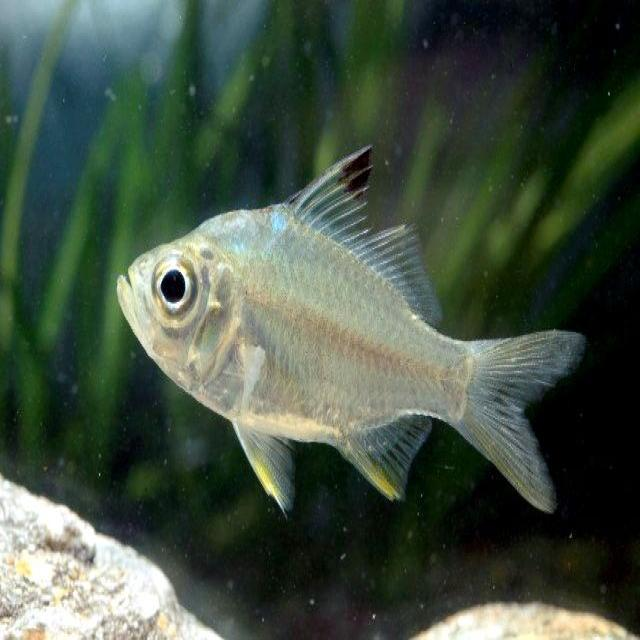Glass-Perchlet: (78, 139, 636, 569)
